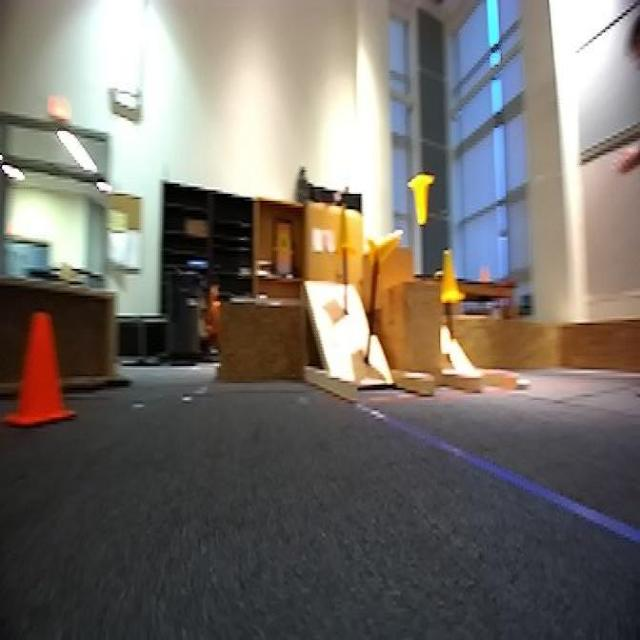frc_cone: (365, 226, 403, 276), (408, 170, 434, 230), (441, 252, 464, 305), (334, 204, 357, 252)
